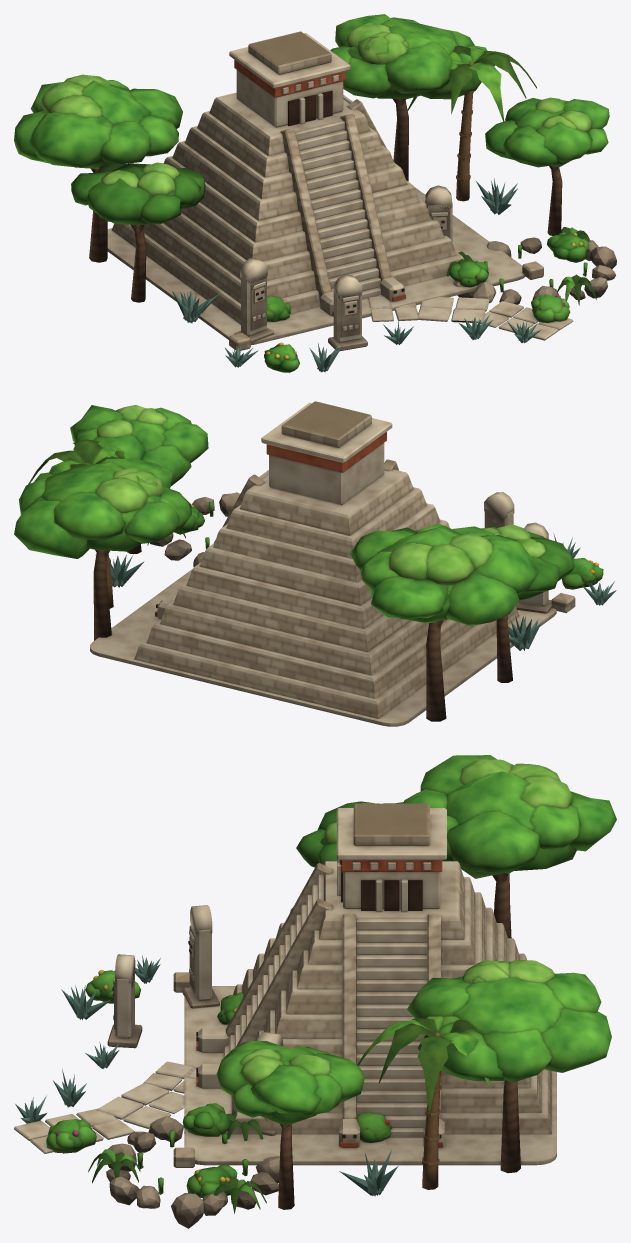
File: ChichenItza_Buildings.fbx
3 views of the same model, one above another, from view 1: azimuth 30°, elevation 25°; view 2: azimuth 150°, elevation 25°; view 3: azimuth 270°, elevation 25° (orthographic). The views are drawn at different scales.
Parts seen in each view (by area): view 1: S02_PyramidBase, S04_GrandStairway, S09_JungleTree_0, S01_Plaza, S03_PyramidTop, S09_JungleTree_1, S05_Temple, S10_FlowerBushes, S09_JungleTree_3, S09_JungleTree_2, S07_Cenote, S08_AgaveGarden (+3 smaller); view 2: S02_PyramidBase, S03_PyramidTop, S09_JungleTree_0, S09_JungleTree_1, S05_Temple, S01_Plaza, S09_JungleTree_3, S09_JungleTree_2, S10_FlowerBushes, S08_AgaveGarden, S07_Cenote, S06_Stela_1 (+2 smaller); view 3: S04_GrandStairway, S09_JungleTree_1, S01_Plaza, S09_JungleTree_0, S05_Temple, S02_PyramidBase, S10_FlowerBushes, S03_PyramidTop, S09_JungleTree_3, S07_Cenote, S08_AgaveGarden, S06_Stela_0 (+2 smaller).
Boxes of the visible parts, left/top/right/bottom form: S02_PyramidBase: left=112, top=156, right=464, bottom=324; S04_GrandStairway: left=280, top=95, right=405, bottom=316; S09_JungleTree_0: left=14, top=74, right=182, bottom=262; S01_Plaza: left=107, top=187, right=573, bottom=350; S03_PyramidTop: left=172, top=92, right=407, bottom=220; S09_JungleTree_1: left=330, top=14, right=495, bottom=181; S05_Temple: left=229, top=31, right=350, bottom=127; S10_FlowerBushes: left=264, top=45, right=588, bottom=372; S09_JungleTree_3: left=485, top=97, right=609, bottom=235; S09_JungleTree_2: left=71, top=162, right=205, bottom=302; S07_Cenote: left=446, top=227, right=616, bottom=305; S08_AgaveGarden: left=172, top=178, right=540, bottom=372; S02_PyramidBase: left=134, top=562, right=519, bottom=718; S03_PyramidTop: left=200, top=469, right=449, bottom=605; S09_JungleTree_0: left=350, top=523, right=539, bottom=721; S09_JungleTree_1: left=14, top=458, right=191, bottom=640; S05_Temple: left=261, top=401, right=392, bottom=504; S01_Plaza: left=90, top=569, right=575, bottom=726; S09_JungleTree_3: left=70, top=405, right=208, bottom=553; S09_JungleTree_2: left=481, top=524, right=574, bottom=682; S10_FlowerBushes: left=28, top=439, right=603, bottom=608; S08_AgaveGarden: left=95, top=533, right=616, bottom=650; S07_Cenote: left=147, top=492, right=239, bottom=566; S06_Stela_1: left=484, top=492, right=514, bottom=527; S04_GrandStairway: left=196, top=863, right=444, bottom=1147; S09_JungleTree_1: left=407, top=960, right=611, bottom=1173; S01_Plaza: left=14, top=972, right=556, bottom=1167; S09_JungleTree_0: left=403, top=755, right=616, bottom=938; S05_Temple: left=336, top=803, right=446, bottom=911; S02_PyramidBase: left=231, top=923, right=551, bottom=1134; S10_FlowerBushes: left=46, top=970, right=491, bottom=1198; S03_PyramidTop: left=286, top=861, right=497, bottom=1014; S09_JungleTree_3: left=216, top=1041, right=364, bottom=1209; S07_Cenote: left=88, top=1112, right=279, bottom=1228; S08_AgaveGarden: left=15, top=955, right=398, bottom=1196; S06_Stela_0: left=182, top=905, right=219, bottom=1008.
Size of the model in its own units: 16.62 by 7.04 by 14.24.
1 material, 1 textured.
